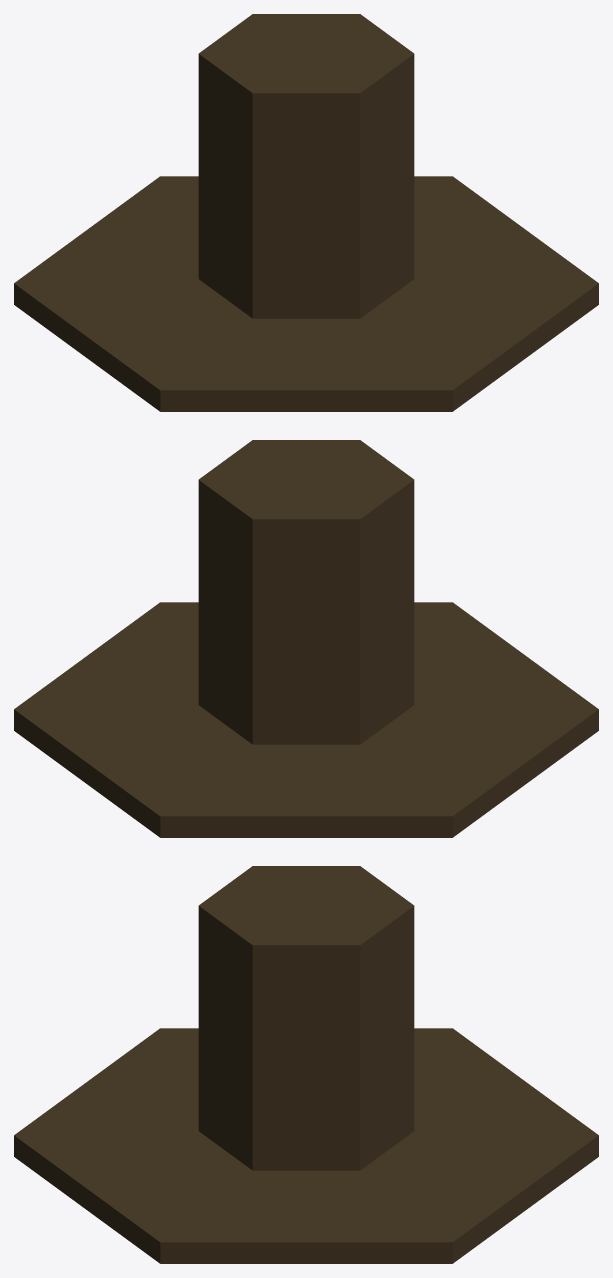
Rendered from GiantDuckHat.fbx.
3 renders of one model, top to bottom at view 1: azimuth 30°, elevation 25°; view 2: azimuth 150°, elevation 25°; view 3: azimuth 270°, elevation 25°, orthographic.
Parts seen in each view (by area): view 1: Cylinder; view 2: Cylinder; view 3: Cylinder.
Part boxes in pixels (<box>): Cylinder: <box>14,14,598,411</box>; Cylinder: <box>14,440,598,837</box>; Cylinder: <box>14,866,598,1263</box>.
Size of the model in its own units: 173 by 94.72 by 200.
